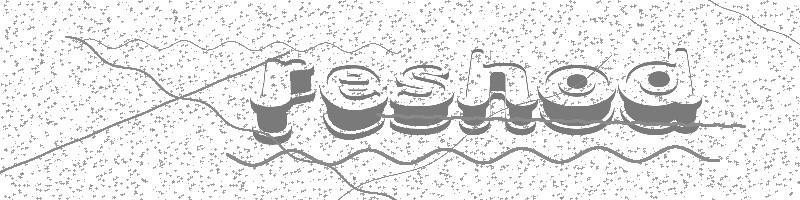d: (615, 45, 704, 138)
e: (316, 61, 391, 141)
h: (456, 45, 539, 137)
o: (537, 60, 618, 138)
r: (246, 52, 319, 148)
s: (388, 60, 456, 140)
